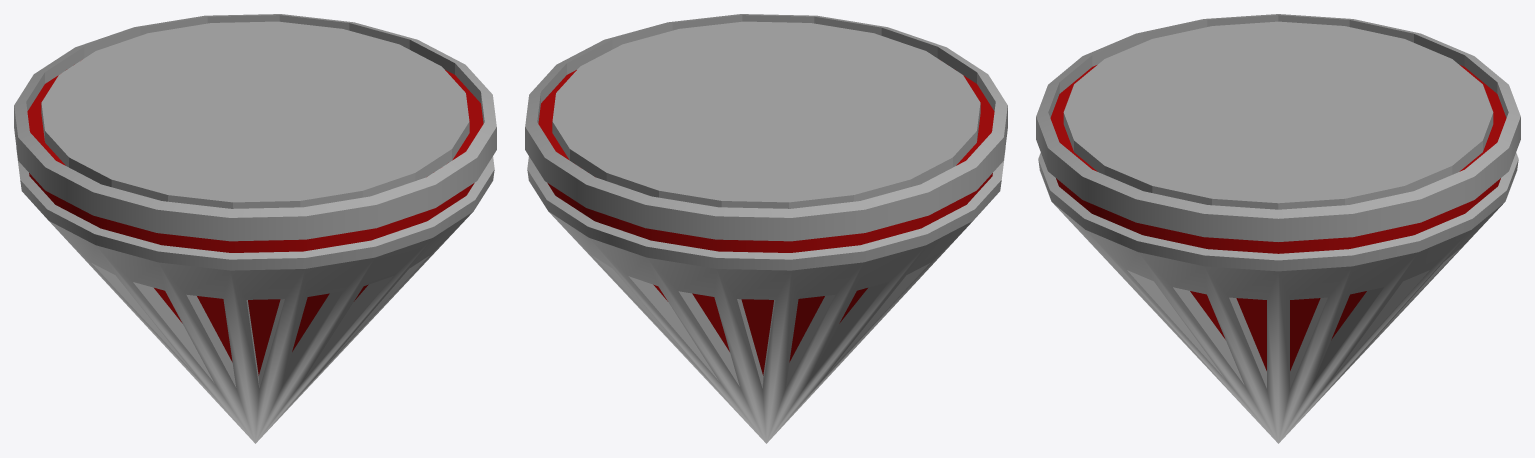
File: PlasmaPlatform.fbx
The picture shows the model from 3 angles, left to right: view 1: azimuth 30°, elevation 25°; view 2: azimuth 150°, elevation 25°; view 3: azimuth 270°, elevation 25°; orthographic projection.
Parts seen in each view (by area): view 1: pCone1; view 2: pCone1; view 3: pCone1.
Boxes of the visible parts, bbox=[...] form: pCone1: bbox=[14, 14, 496, 443]; pCone1: bbox=[525, 14, 1007, 443]; pCone1: bbox=[1036, 14, 1520, 443].
Size of the model in its own units: 52.1 by 39.32 by 52.1.
